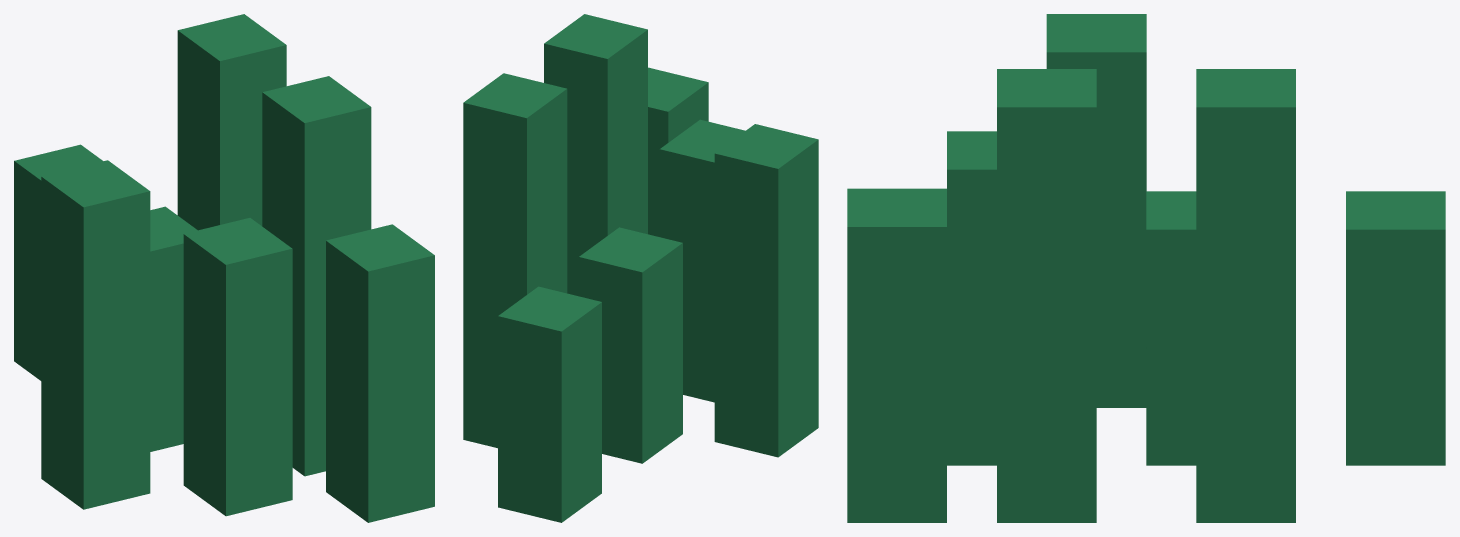
The model's file is niunia.fbx.
3 views of the same model, side by side, from view 1: azimuth 30°, elevation 25°; view 2: azimuth 150°, elevation 25°; view 3: azimuth 270°, elevation 25° (orthographic). The views are drawn at different scales.
Parts seen in each view (by area): view 1: Cube.005, Cube.003, Cube.001, Cube, Cube.002, Cube.004, Cube.006; view 2: Cube.005, Cube.002, Cube.006, Cube, Cube.004, Cube.003, Cube.001; view 3: Cube, Cube.002, Cube.001, Cube.006, Cube.005, Cube.003, Cube.004.
Part boxes in pixels (bbox=[...]): Cube.005: bbox=[41, 160, 150, 509]; Cube.003: bbox=[183, 218, 292, 516]; Cube.001: bbox=[326, 224, 434, 522]; Cube: bbox=[262, 76, 371, 476]; Cube.002: bbox=[177, 14, 286, 230]; Cube.004: bbox=[150, 206, 197, 451]; Cube.006: bbox=[14, 144, 102, 380]; Cube.005: bbox=[714, 124, 818, 457]; Cube.002: bbox=[463, 73, 567, 448]; Cube.006: bbox=[498, 286, 601, 522]; Cube: bbox=[544, 14, 647, 296]; Cube.004: bbox=[579, 227, 682, 463]; Cube.003: bbox=[659, 119, 745, 402]; Cube.001: bbox=[648, 67, 708, 236]; Cube: bbox=[997, 69, 1096, 522]; Cube.002: bbox=[1196, 69, 1295, 522]; Cube.001: bbox=[847, 188, 946, 522]; Cube.006: bbox=[1346, 191, 1445, 465]; Cube.005: bbox=[1046, 14, 1146, 407]; Cube.003: bbox=[947, 131, 996, 465]; Cube.004: bbox=[1146, 191, 1196, 465].
Bounding box in the file's own units: 548 × 694 × 905.
